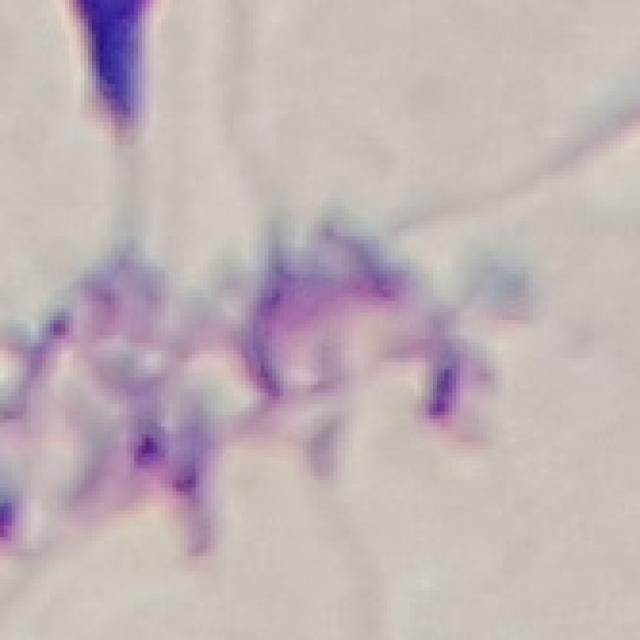non-sperm: (0, 220, 484, 546)
